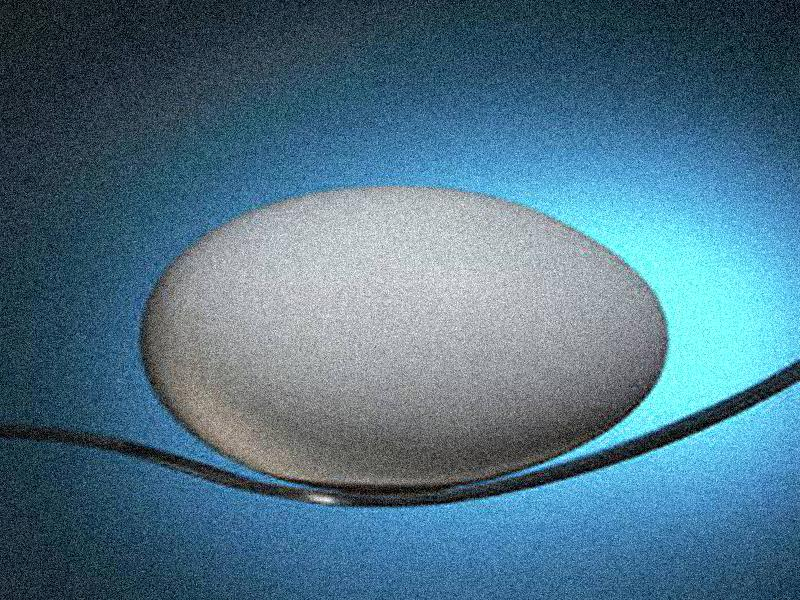Eggs: (141, 189, 667, 488)
